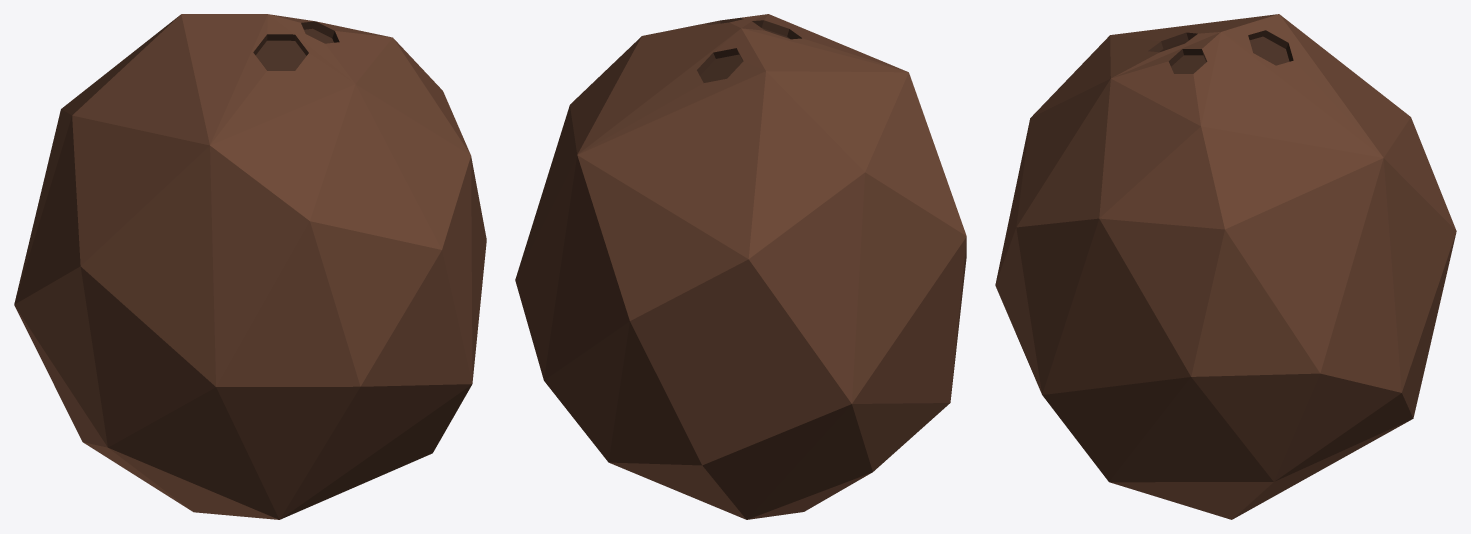
The model's file is coco.fbx.
3 renders of one model, left to right at view 1: azimuth 30°, elevation 25°; view 2: azimuth 150°, elevation 25°; view 3: azimuth 270°, elevation 25°, orthographic. The views are drawn at different scales.
Visible parts, largest first — view 1: Sphere.002_coconut3_0.001; view 2: Sphere.002_coconut3_0.001; view 3: Sphere.002_coconut3_0.001.
Part boxes in pixels (x1,y1,x2,y2): Sphere.002_coconut3_0.001: (14, 14, 486, 519); Sphere.002_coconut3_0.001: (515, 14, 966, 519); Sphere.002_coconut3_0.001: (995, 14, 1456, 519).
Bounding box in the file's own units: 24.41 × 27.42 × 24.75.
